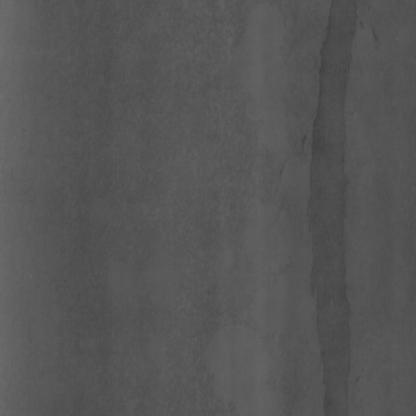water_spot: (288, 16, 365, 410)
